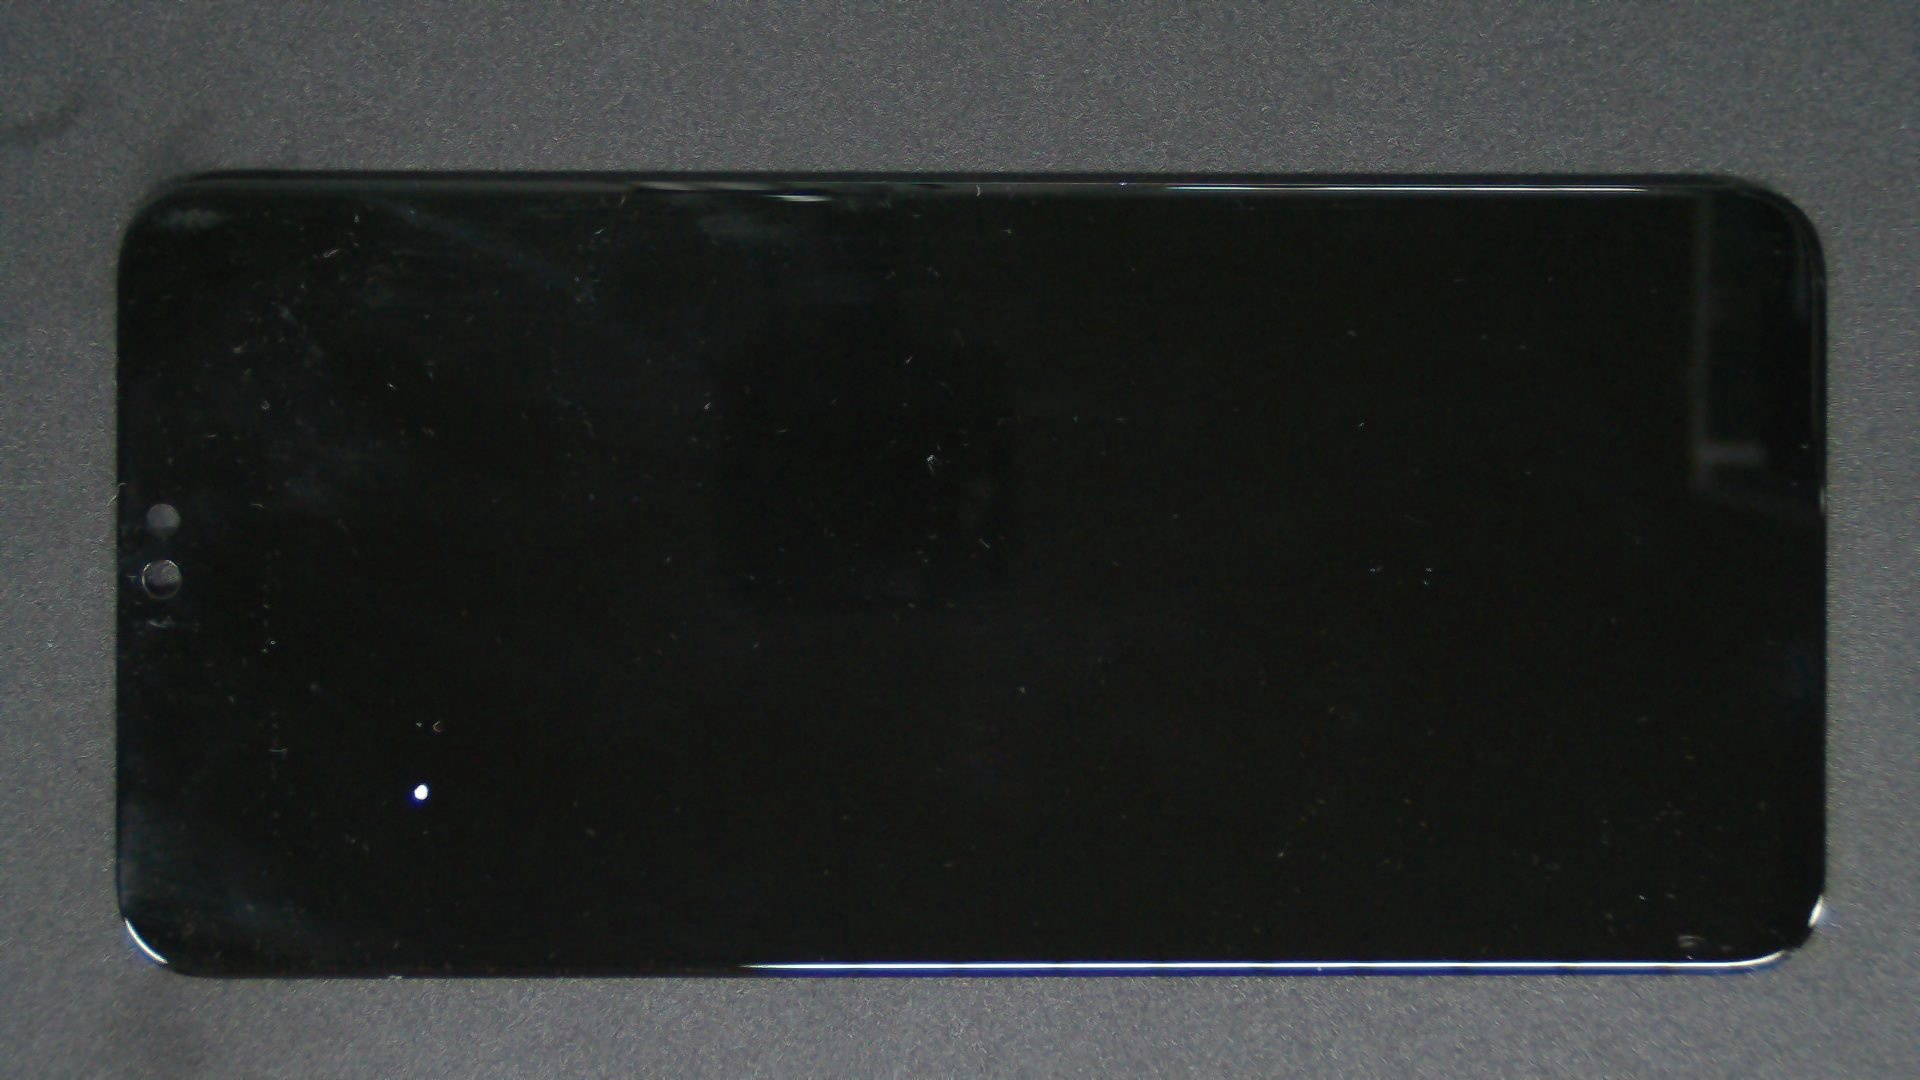oil: (212, 392, 634, 1080)
